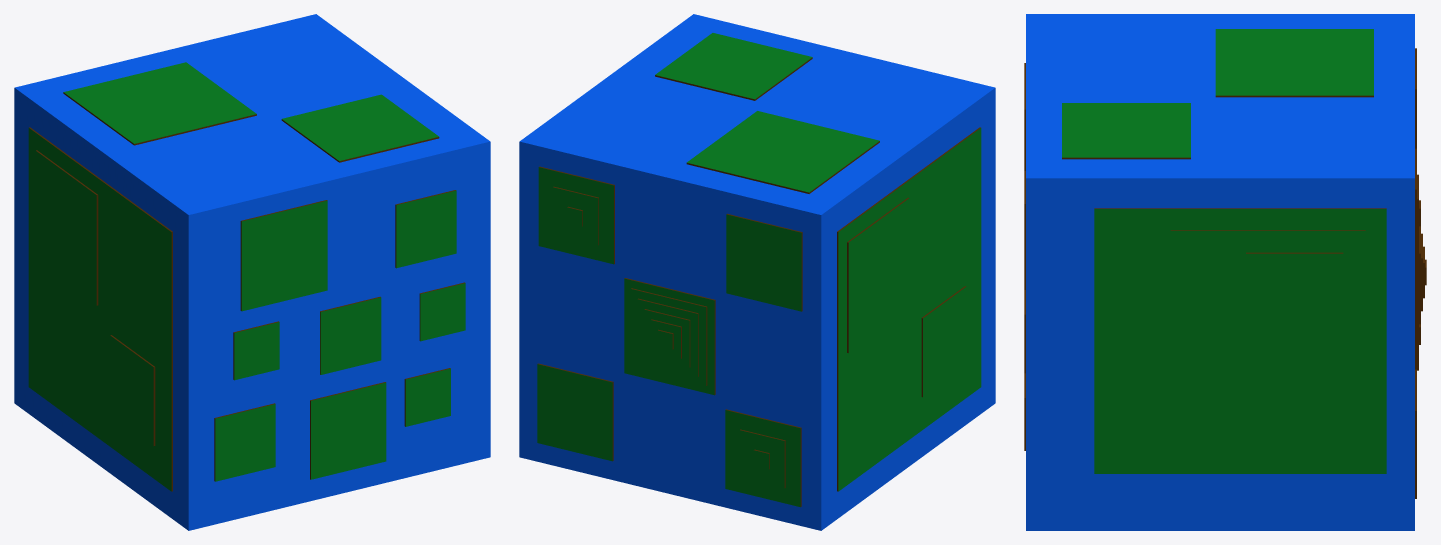
Rendered from планета земля 2.0.3.dae.
3 renders of one model, left to right at view 1: azimuth 30°, elevation 25°; view 2: azimuth 150°, elevation 25°; view 3: azimuth 270°, elevation 25°, orthographic. The views are drawn at different scales.
Visible parts, largest first — view 1: Куб; view 2: Куб; view 3: Куб.
Part boxes in pixels (<box>): Куб: <box>14,14,490,530</box>; Куб: <box>519,14,995,530</box>; Куб: <box>1024,14,1426,530</box>.
Size of the model in its own units: 2.05 by 2.07 by 2.06.
